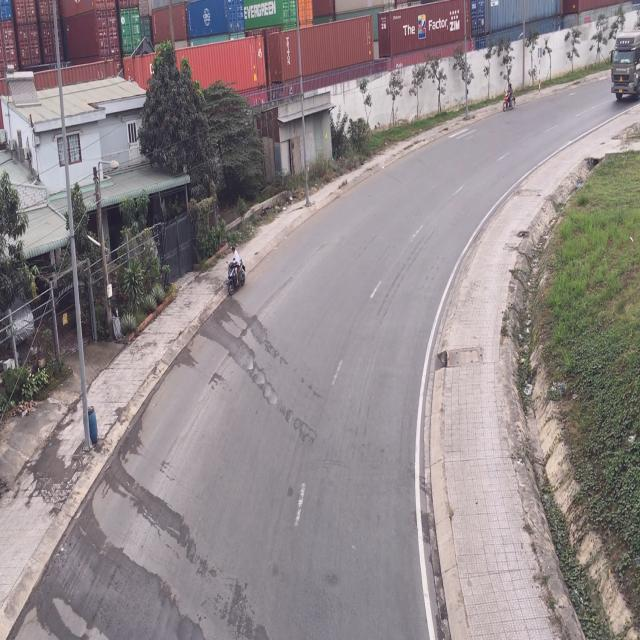motorbike: (228, 247, 248, 298), (502, 75, 516, 116)
truck: (612, 18, 640, 101)
